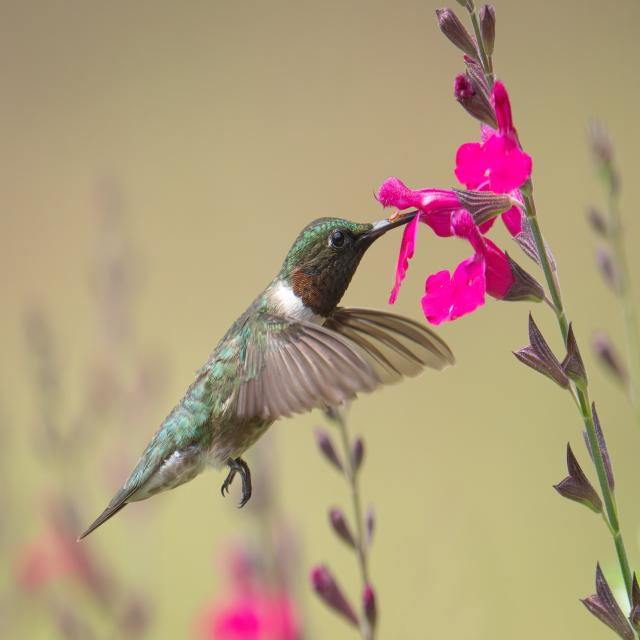Humming Bird: (76, 208, 454, 546)
